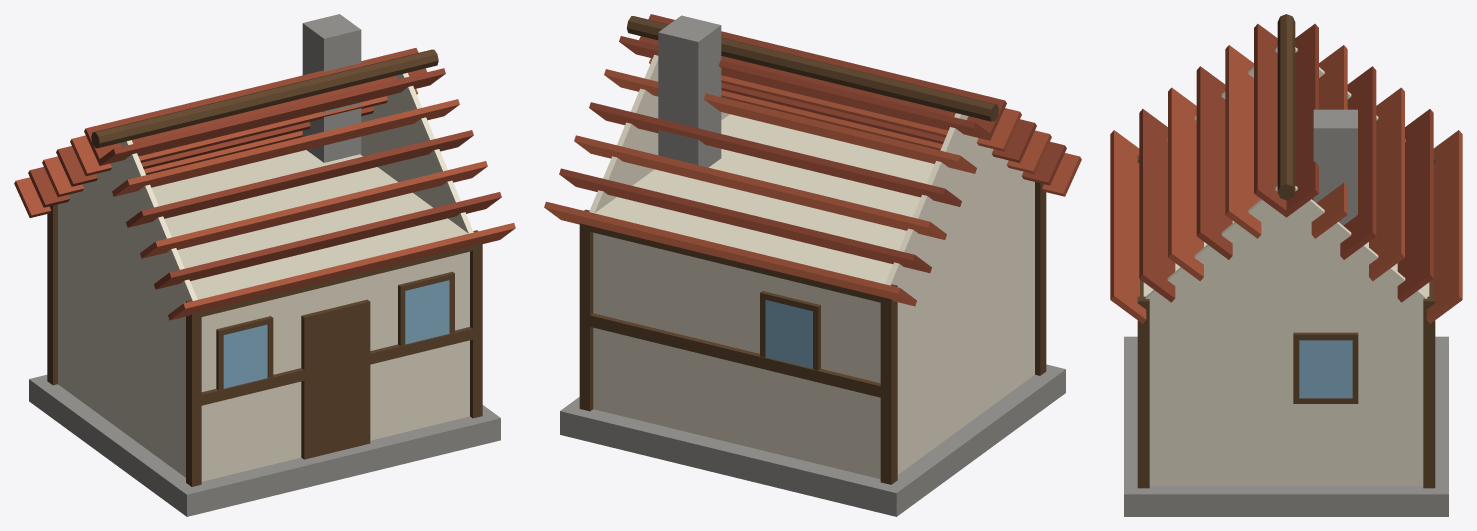
Rendered from house.glb.
3 views of the same model, side by side, from view 1: azimuth 30°, elevation 25°; view 2: azimuth 150°, elevation 25°; view 3: azimuth 270°, elevation 25° (orthographic). The views are drawn at different scales.
Visible parts, largest first — view 1: house-col, house_detail; view 2: house-col, house_detail; view 3: house-col, house_detail.
Part boxes in pixels (x1,y1,x2,y2): house-col: (14,14,515,516); house_detail: (47,204,482,486); house-col: (544,14,1081,516); house_detail: (579,182,1046,484); house-col: (1110,14,1462,516); house_detail: (1137,155,1435,488).
Size of the model in its own units: 4 by 4 by 3.5.
